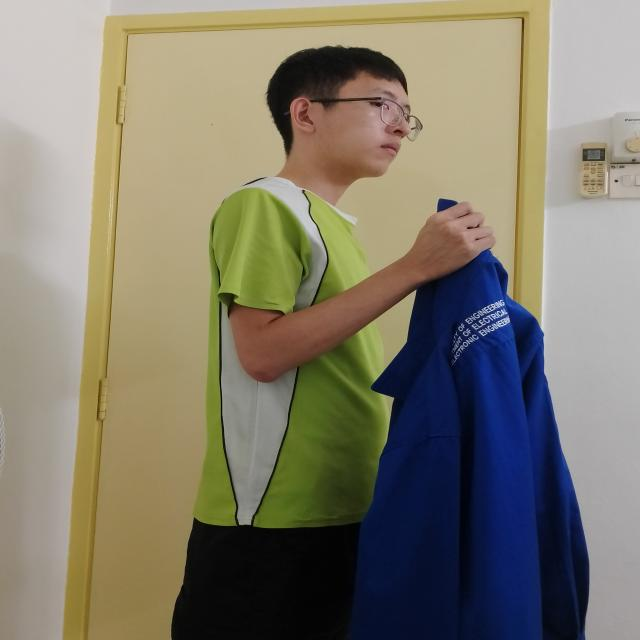person_without_labcoat: (171, 46, 589, 640)
